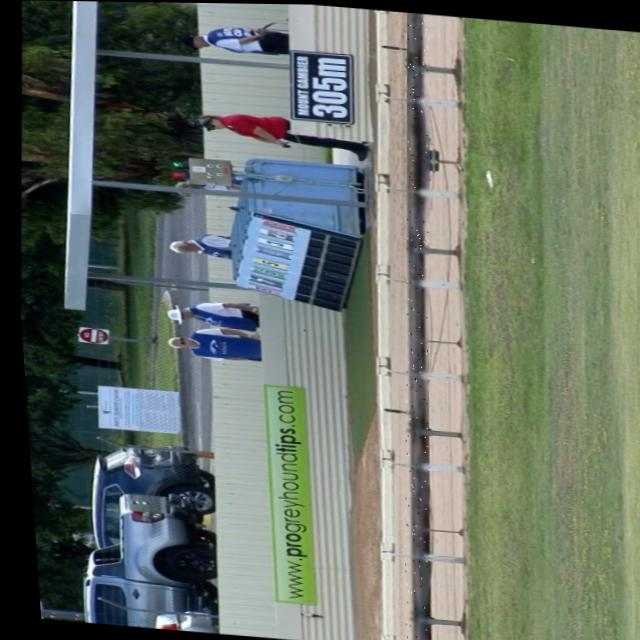rail: (404, 10, 425, 640)
